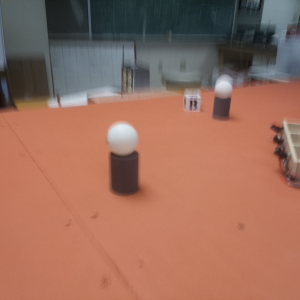obstacle: (102, 120, 149, 195), (213, 78, 234, 123)
side: (267, 118, 300, 186)
